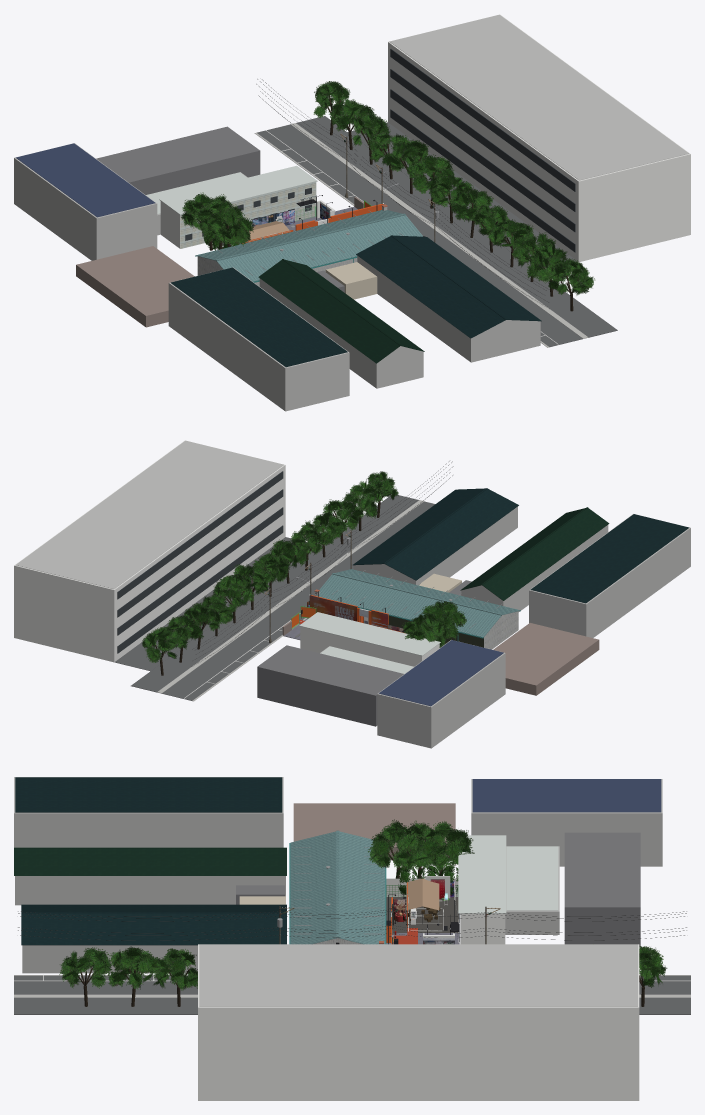
File: localpower.glb
The picture shows the model from 3 angles, top to bottom: view 1: azimuth 30°, elevation 25°; view 2: azimuth 150°, elevation 25°; view 3: azimuth 270°, elevation 25°; orthographic projection. The views are drawn at different scales.
Parts seen in each view (by area): view 1: nbrs, outer, tree_leaves, shellOut, court, rig; view 2: nbrs, outer, tree_leaves, shellOut, court, rig; view 3: nbrs, shellOut, outer, tree_leaves, court, rig.
Part boxes in pixels (x1,y1,x2,y2): nbrs: (14,14,690,411); outer: (195,95,617,347); tree_leaves: (181,81,595,295); shellOut: (195,210,422,286); court: (203,195,383,250); rig: (256,79,549,306); nbrs: (14,440,690,748); outer: (131,494,520,701); tree_leaves: (142,471,466,662); shellOut: (315,569,520,649); court: (283,591,442,647); rig: (192,461,453,665); nbrs: (14,777,662,1100); shellOut: (290,830,385,944); outer: (14,840,690,1014); tree_leaves: (59,819,667,990); court: (386,865,459,944); rig: (18,893,686,940).
Bounding box in the file's own units: 91.35 × 14.79 × 92.
Materials: 184 (127 with a texture image).
